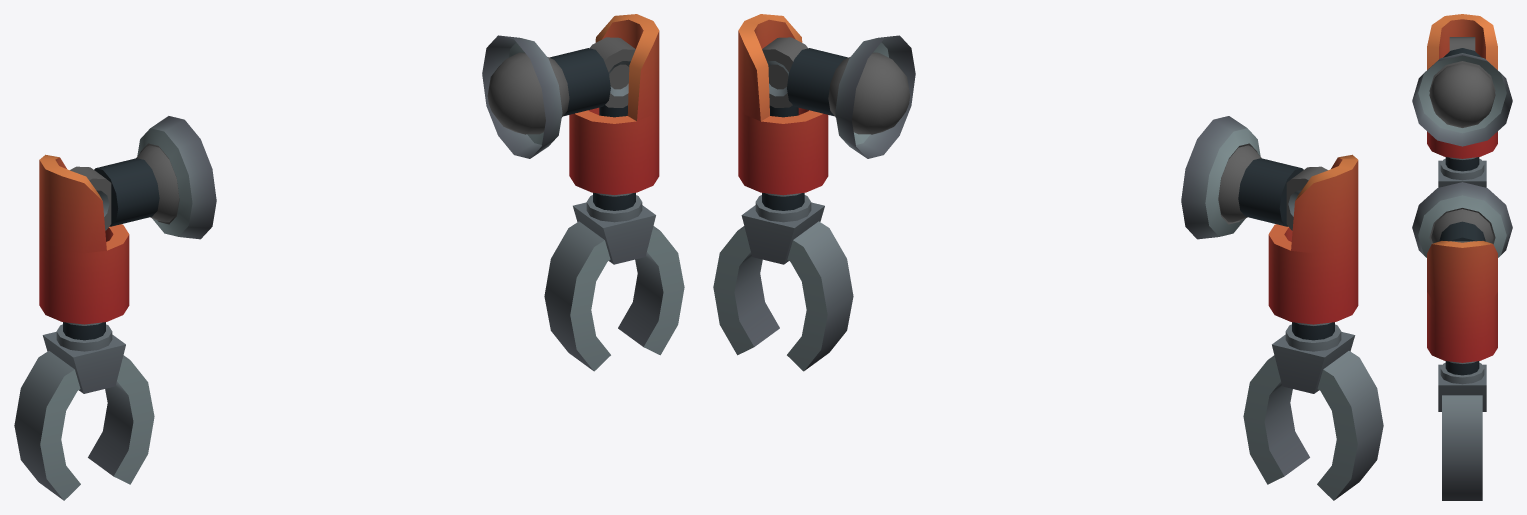
Rendered from robot_arms.fbx.
3 views of the same model, side by side, from view 1: azimuth 30°, elevation 25°; view 2: azimuth 150°, elevation 25°; view 3: azimuth 270°, elevation 25° (orthographic). The views are drawn at different scales.
Visible parts, largest first — view 1: Cylinder.014, Cylinder.024, Cylinder.016, Cylinder.022, Cylinder.008, Sphere.001, Cylinder.017, Cylinder.009, Cylinder.018, Cube.003, Cube.002, Cylinder.020 (+4 smaller); view 2: Cylinder.014, Cylinder.024, Cylinder.016, Cylinder.022, Cylinder.008, Sphere.001, Cylinder.017, Cylinder.009, Cylinder.018, Cube.002, Cube.003, Cylinder.020 (+4 smaller); view 3: Cylinder.022, Cylinder.024, Cylinder.008, Cylinder.017, Cylinder.014, Sphere, Sphere.001, Cube.003, Cylinder.018, Cylinder.015, Cylinder.023, Cube.002 (+4 smaller).
Boxes of the visible parts, x1,y1,x2,y2 form: Cylinder.014: (39, 154, 129, 324); Cylinder.024: (544, 221, 684, 371); Cylinder.016: (14, 351, 154, 500); Cylinder.022: (569, 14, 659, 195); Cylinder.008: (137, 116, 216, 239); Sphere.001: (487, 52, 569, 134); Cylinder.017: (482, 35, 562, 158); Cylinder.009: (94, 158, 159, 226); Cylinder.018: (549, 48, 610, 116); Cube.003: (573, 202, 655, 264); Cube.002: (42, 331, 125, 393); Cylinder.020: (590, 37, 635, 107); Cylinder.014: (1268, 154, 1358, 324); Cylinder.024: (713, 221, 853, 371); Cylinder.016: (1243, 351, 1383, 500); Cylinder.022: (738, 14, 828, 195); Cylinder.008: (1181, 116, 1260, 239); Sphere.001: (828, 52, 909, 134); Cylinder.017: (835, 35, 915, 158); Cylinder.009: (1238, 158, 1303, 226); Cylinder.018: (787, 48, 848, 116); Cube.002: (1272, 332, 1355, 393); Cube.003: (741, 202, 824, 264); Cylinder.020: (762, 37, 807, 107); Cylinder.022: (1427, 241, 1497, 362); Cylinder.024: (1442, 395, 1482, 500); Cylinder.008: (1412, 53, 1512, 146); Cylinder.017: (1412, 182, 1512, 257); Cylinder.014: (1427, 14, 1497, 158); Sphere: (1429, 63, 1495, 127); Sphere.001: (1431, 209, 1493, 243); Cube.003: (1438, 364, 1486, 411); Cylinder.018: (1439, 221, 1485, 241); Cylinder.015: (1440, 159, 1484, 180); Cylinder.023: (1440, 363, 1484, 384); Cube.002: (1438, 160, 1486, 187).
Bounding box in the file's own units: 0.4 × 0.0687 × 0.2012.
